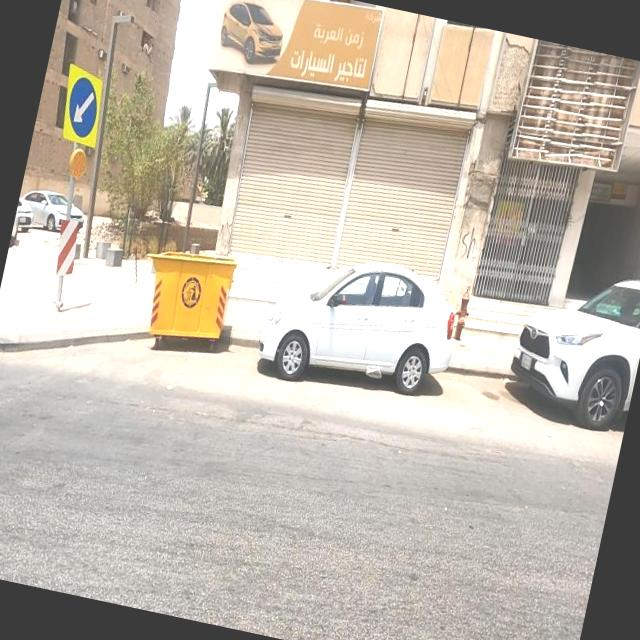debris: (421, 23, 640, 272), (305, 0, 550, 165), (32, 107, 126, 220)
